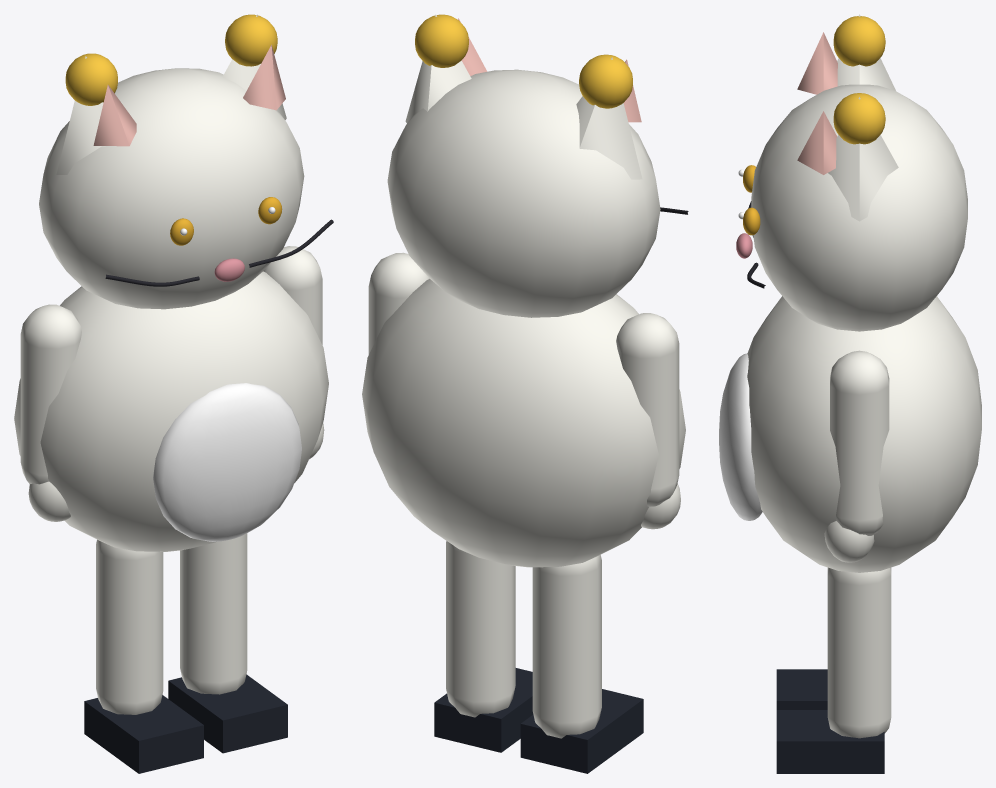
Rendered from profile-opal.glb.
3 views of the same model, side by side, from view 1: azimuth 30°, elevation 25°; view 2: azimuth 150°, elevation 25°; view 3: azimuth 270°, elevation 25° (orthographic). The views are drawn at different scales.
Visible parts, largest first — view 1: creature-head, round-body, belly, left-leg-mesh, right-leg-mesh, left-sleeve, left-shoe, right-shoe, gold-ear-tip (×2), inner-ear (×2), right-sleeve, cat-ear (×2) (+2 smaller); view 2: round-body, creature-head, left-leg-mesh, right-leg-mesh, left-sleeve, left-shoe, cat-ear (×2), gold-ear-tip (×2), right-shoe, right-sleeve, left-hand-mesh; view 3: round-body, creature-head, right-leg-mesh, right-sleeve, right-shoe, belly, cat-ear (×2), gold-ear-tip (×2), inner-ear (×2), left-shoe, right-hand-mesh.
Part boxes in pixels (x1=…): creature-head: x1=39, y1=68, x2=304, y2=309; round-body: x1=14, y1=271, x2=328, y2=551; belly: x1=153, y1=383, x2=301, y2=541; left-leg-mesh: x1=96, y1=539, x2=163, y2=714; right-leg-mesh: x1=180, y1=533, x2=247, y2=694; left-sleeve: x1=20, y1=304, x2=81, y2=484; left-shoe: x1=84, y1=695, x2=203, y2=773; right-shoe: x1=168, y1=674, x2=287, y2=753; gold-ear-tip (×2): x1=65, y1=14, x2=277, y2=105; inner-ear (×2): x1=93, y1=45, x2=285, y2=146; right-sleeve: x1=263, y1=246, x2=322, y2=344; cat-ear (×2): x1=56, y1=14, x2=286, y2=174; round-body: x1=362, y1=279, x2=685, y2=567; creature-head: x1=387, y1=69, x2=660, y2=317; left-leg-mesh: x1=532, y1=555, x2=601, y2=738; right-leg-mesh: x1=446, y1=541, x2=515, y2=717; left-sleeve: x1=616, y1=313, x2=679, y2=506; left-shoe: x1=520, y1=689, x2=643, y2=773; cat-ear (×2): x1=405, y1=14, x2=642, y2=179; gold-ear-tip (×2): x1=415, y1=14, x2=632, y2=108; right-shoe: x1=434, y1=668, x2=533, y2=752; right-sleeve: x1=368, y1=252, x2=429, y2=354; left-hand-mesh: x1=641, y1=483, x2=680, y2=529; round-body: x1=747, y1=296, x2=981, y2=572; creature-head: x1=751, y1=84, x2=967, y2=331; right-leg-mesh: x1=827, y1=567, x2=891, y2=738; right-sleeve: x1=830, y1=350, x2=889, y2=535; right-shoe: x1=776, y1=710, x2=884, y2=773; belly: x1=719, y1=353, x2=762, y2=520; cat-ear (×2): x1=828, y1=14, x2=898, y2=221; gold-ear-tip (×2): x1=833, y1=16, x2=885, y2=144; inner-ear (×2): x1=797, y1=32, x2=837, y2=174; left-shoe: x1=776, y1=669, x2=827, y2=709; right-hand-mesh: x1=824, y1=521, x2=874, y2=562.
Bounding box in the file's own units: 1.4 × 3.14 × 1.1.
